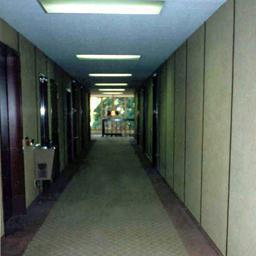Lavamanos: (30, 139, 59, 190)
Puerta: (5, 57, 17, 234)
